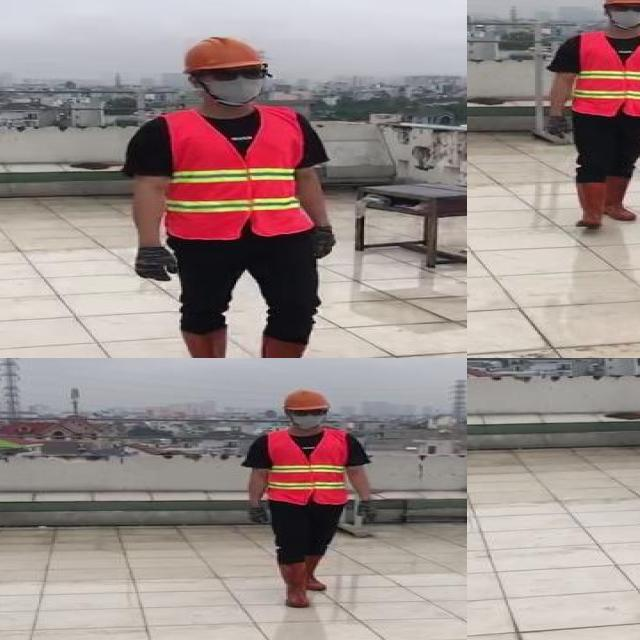boots: (175, 326, 243, 358), (252, 332, 318, 358), (277, 558, 311, 608), (608, 179, 636, 223), (580, 182, 604, 228), (304, 552, 332, 591)
face_mask: (206, 61, 270, 102), (607, 2, 640, 27), (287, 408, 328, 428)
glasses: (206, 64, 273, 85), (287, 406, 330, 418), (607, 3, 640, 14)
hand_glove: (131, 245, 179, 284), (307, 223, 339, 261), (544, 114, 572, 139), (356, 500, 382, 525), (247, 504, 268, 527)
head_helmet: (174, 33, 270, 74), (276, 389, 337, 412), (601, 0, 640, 7)
person: (113, 33, 344, 358), (241, 386, 383, 610), (539, 0, 640, 235)
vest: (154, 108, 312, 237), (266, 430, 346, 503), (576, 31, 640, 117)
